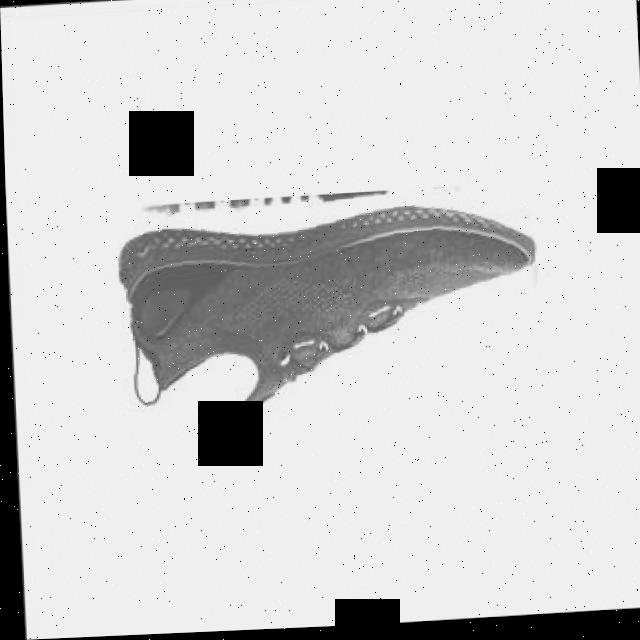shoe: (111, 186, 544, 436)
